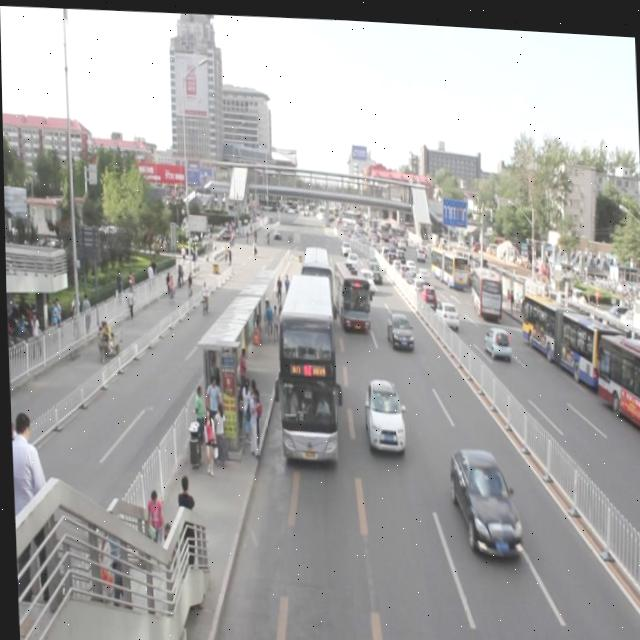car: (444, 440, 523, 557), (358, 368, 408, 453), (382, 302, 415, 349), (356, 260, 374, 289), (363, 249, 381, 278)
van: (267, 262, 343, 466), (295, 236, 337, 332), (328, 251, 372, 331)
